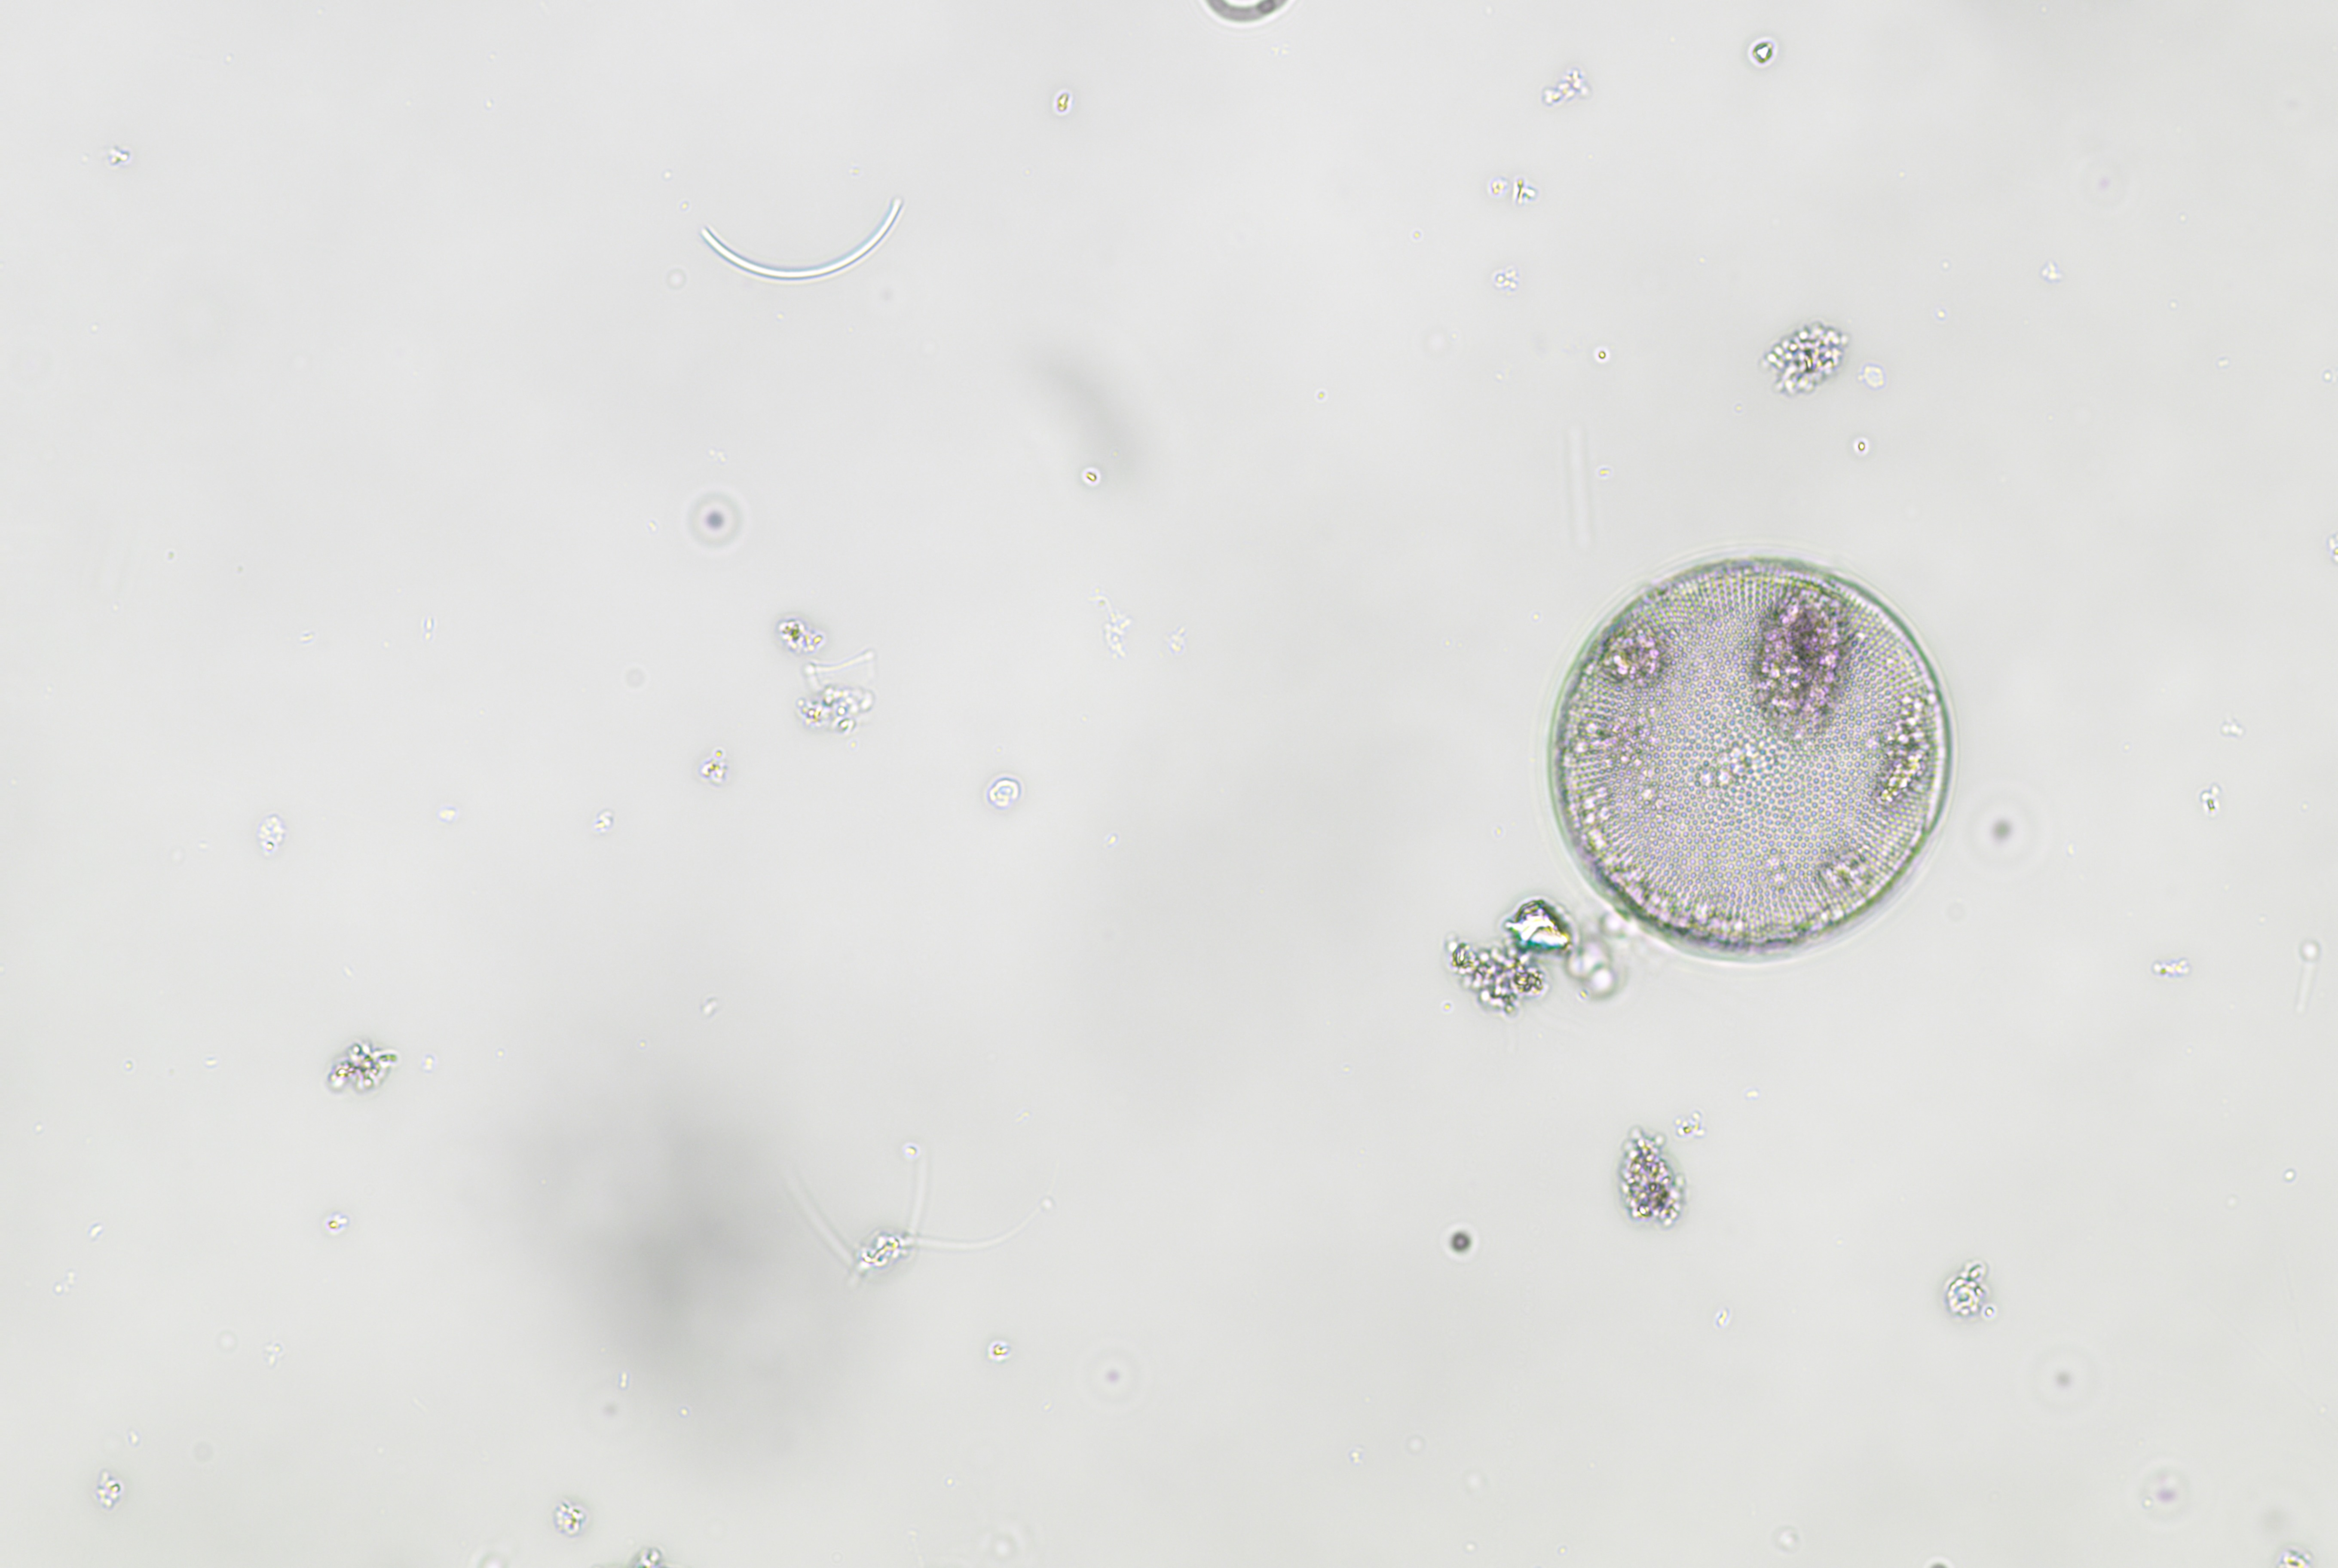coscinodiscus: (1552, 558, 1958, 966)
